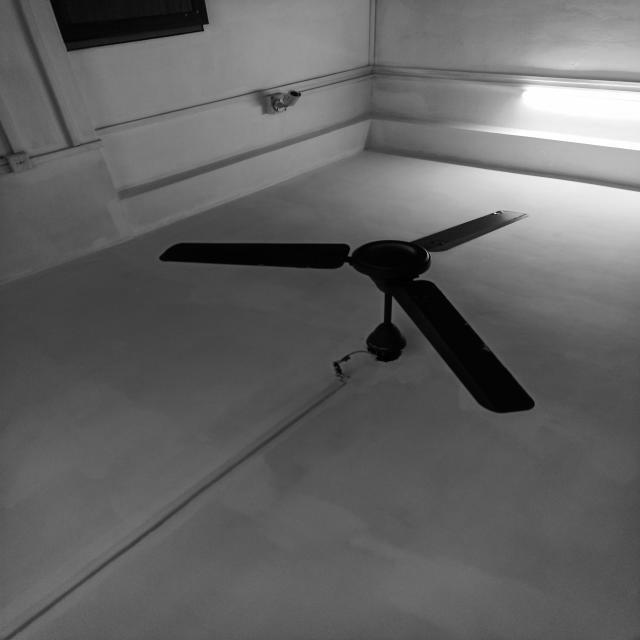fan: (159, 210, 537, 416)
